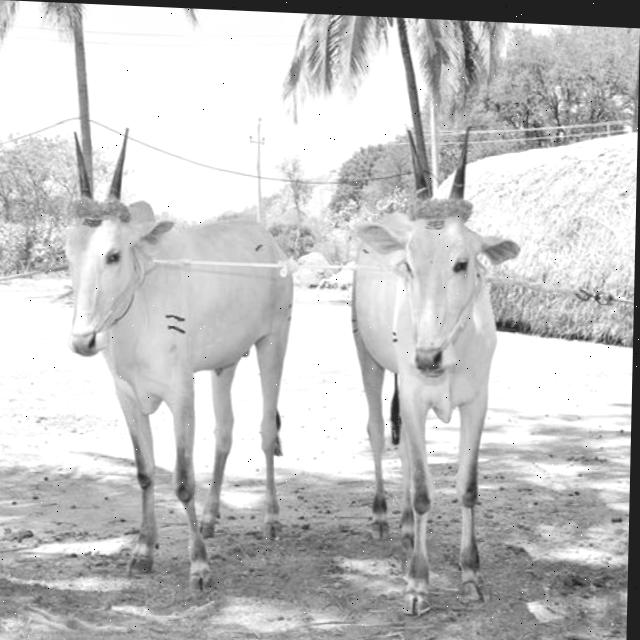Cow: (342, 120, 524, 621)
